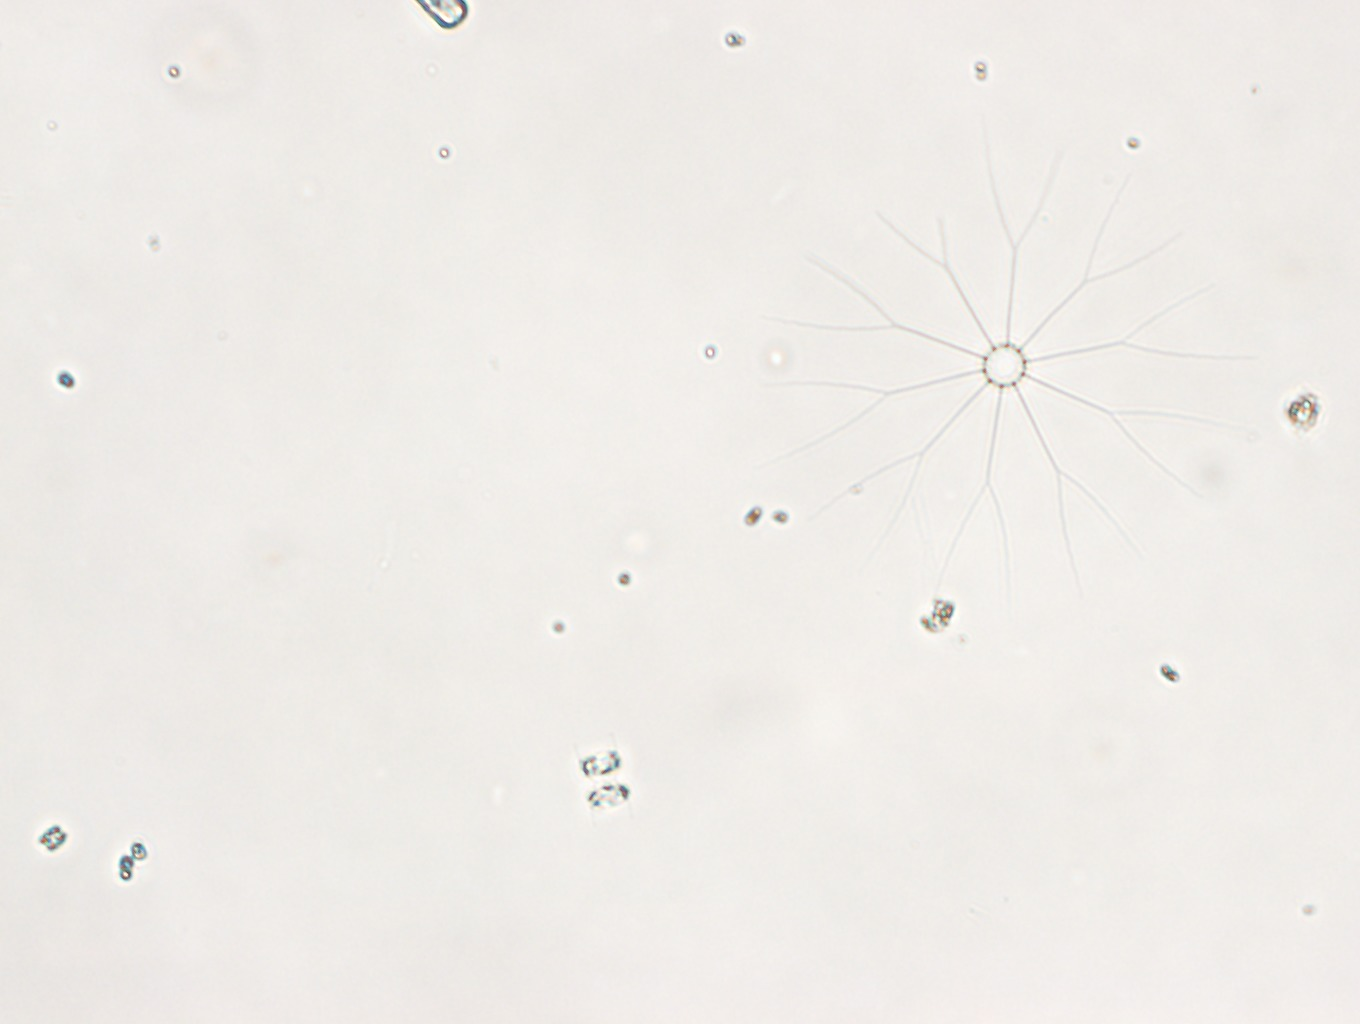bacteriastrum: (751, 131, 1271, 620)
